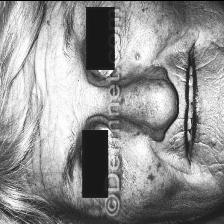Unclassified: (130, 14, 148, 150), (142, 154, 168, 188)
